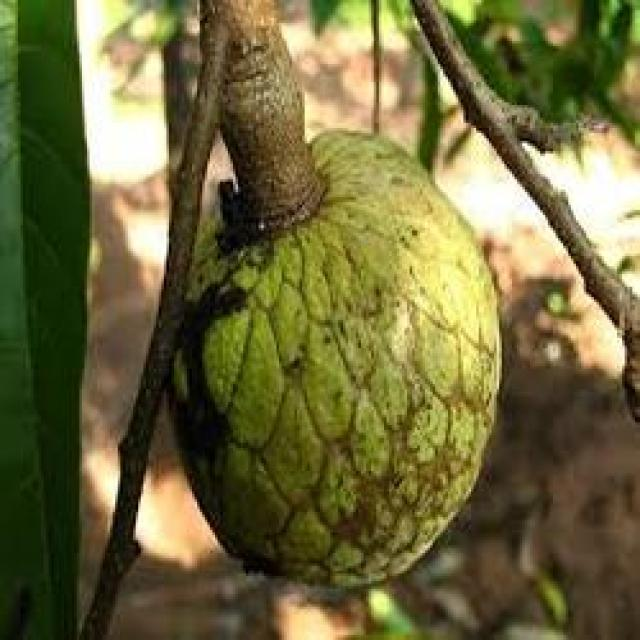apple: (174, 128, 504, 576)
